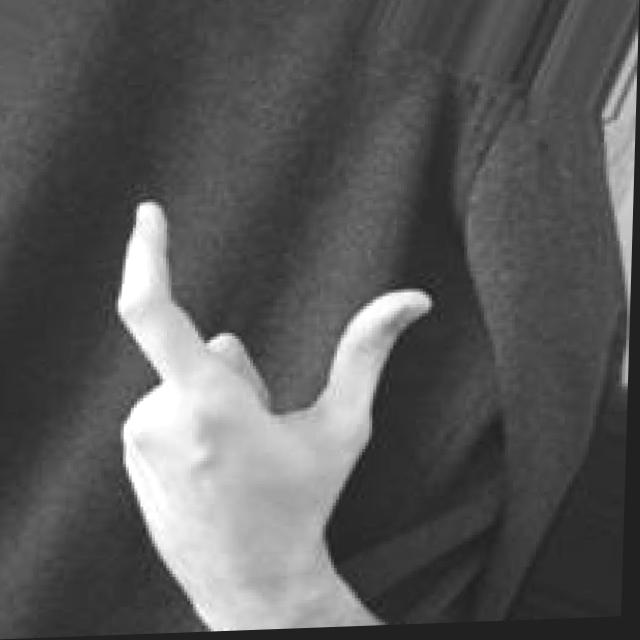U: (105, 190, 440, 610)
